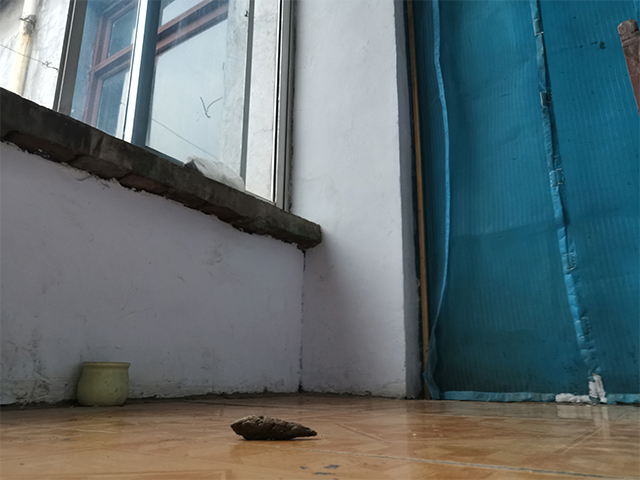feces: (227, 413, 320, 443)
